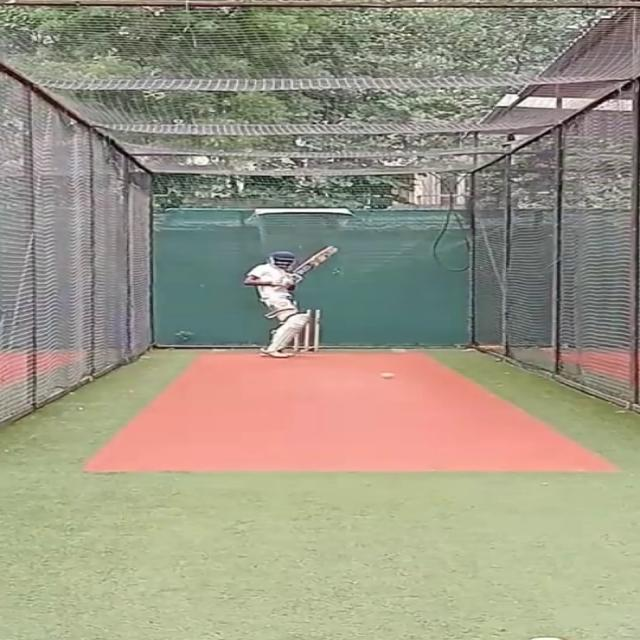ball: (382, 371, 397, 380)
stump: (295, 307, 325, 352)
